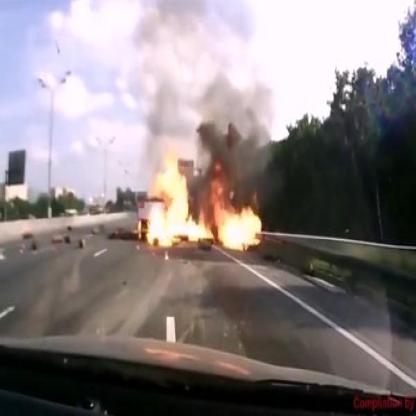fire: (136, 141, 265, 261)
